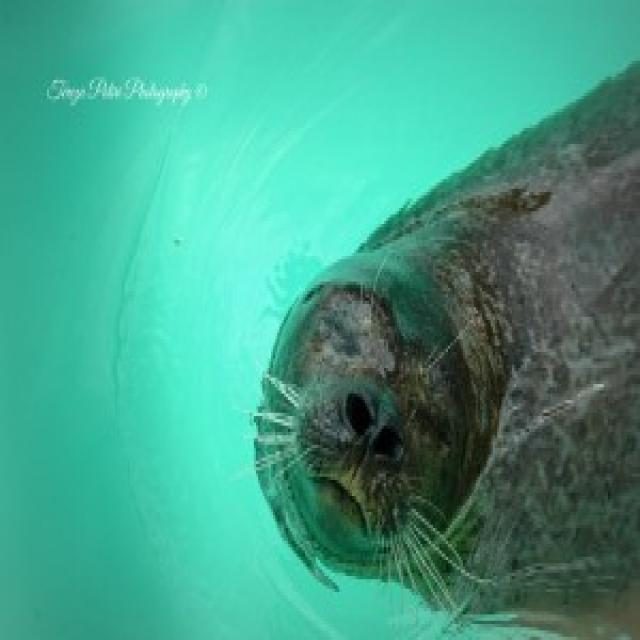Seal: (245, 103, 638, 601)
